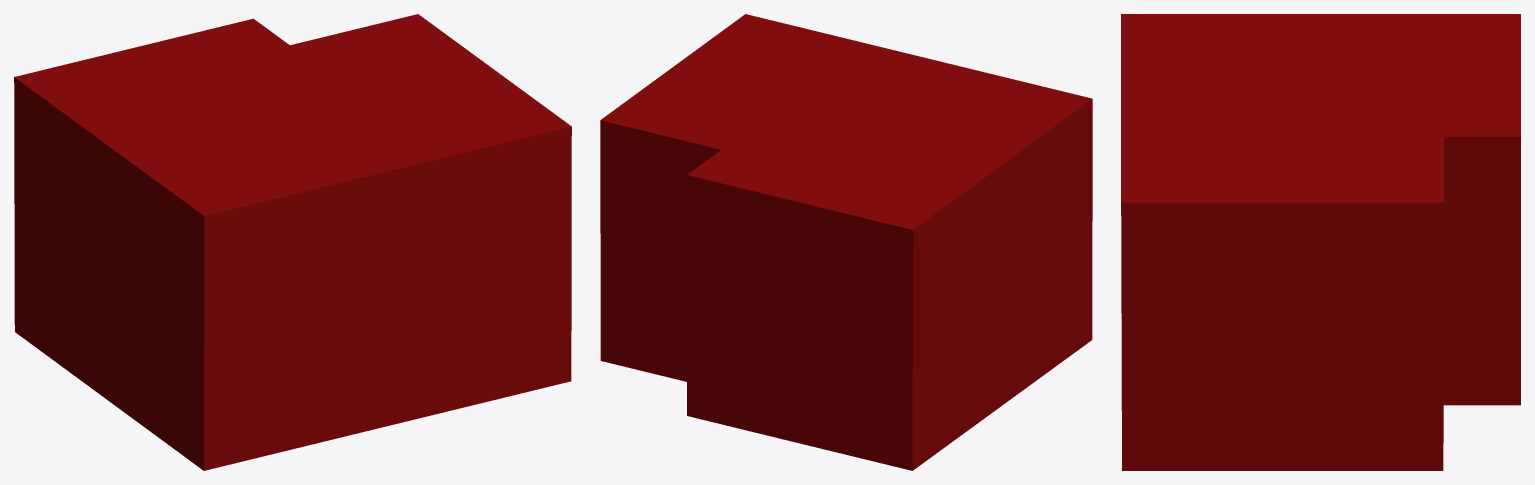
The model's file is New Game Object (25).obj.
The picture shows the model from 3 angles, left to right: view 1: azimuth 30°, elevation 25°; view 2: azimuth 150°, elevation 25°; view 3: azimuth 270°, elevation 25°; orthographic projection. The views are drawn at different scales.
Parts seen in each view (by area): view 1: New Game Object (25)_0, New Game Object (25)_1; view 2: New Game Object (25)_0, New Game Object (25)_1; view 3: New Game Object (25)_0, New Game Object (25)_1.
Boxes of the visible parts, left/top/right/bottom form: New Game Object (25)_0: left=14, top=77, right=571, bottom=470; New Game Object (25)_1: left=14, top=14, right=571, bottom=215; New Game Object (25)_0: left=600, top=99, right=1092, bottom=470; New Game Object (25)_1: left=600, top=14, right=1092, bottom=229; New Game Object (25)_0: left=1121, top=137, right=1520, bottom=470; New Game Object (25)_1: left=1121, top=14, right=1520, bottom=202.
Size of the model in its own units: 15.41 by 10.22 by 13.81.
